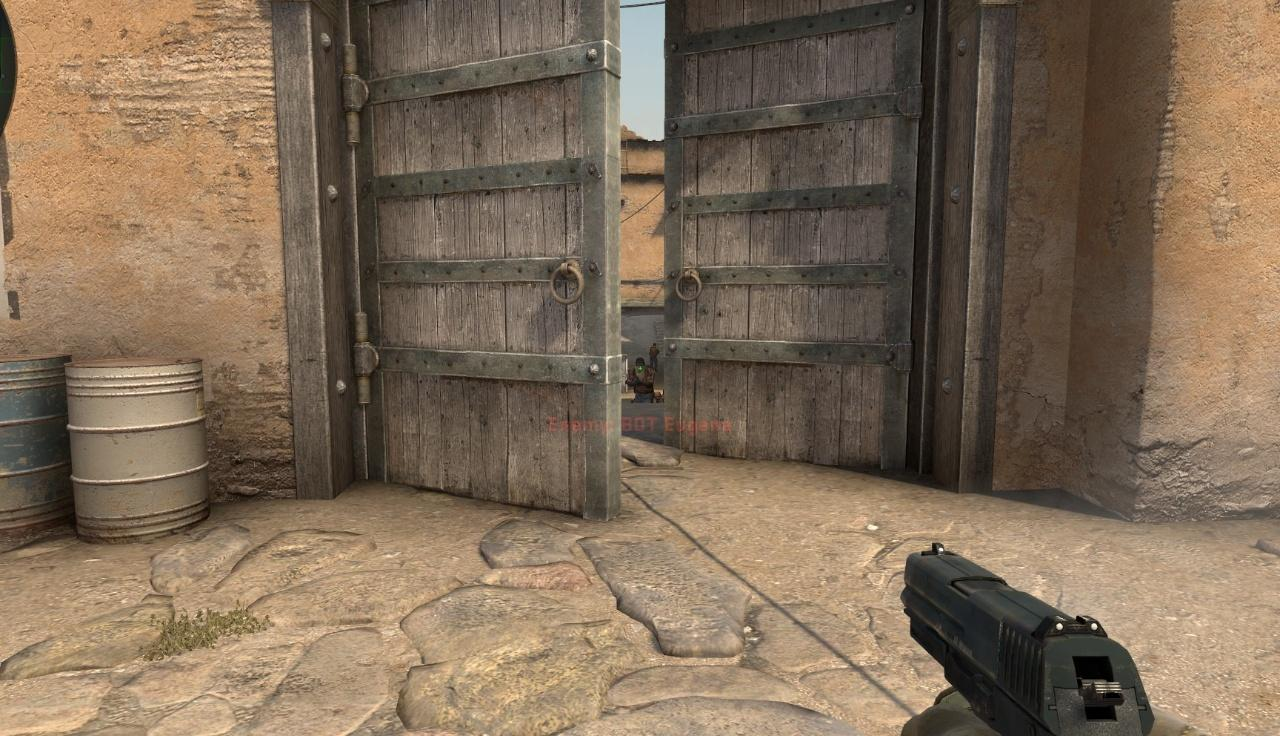pistol: (901, 540, 1216, 736)
tt: (625, 358, 655, 404), (649, 343, 659, 373)
tthead: (636, 358, 645, 372), (655, 392, 662, 401), (653, 343, 657, 348)
